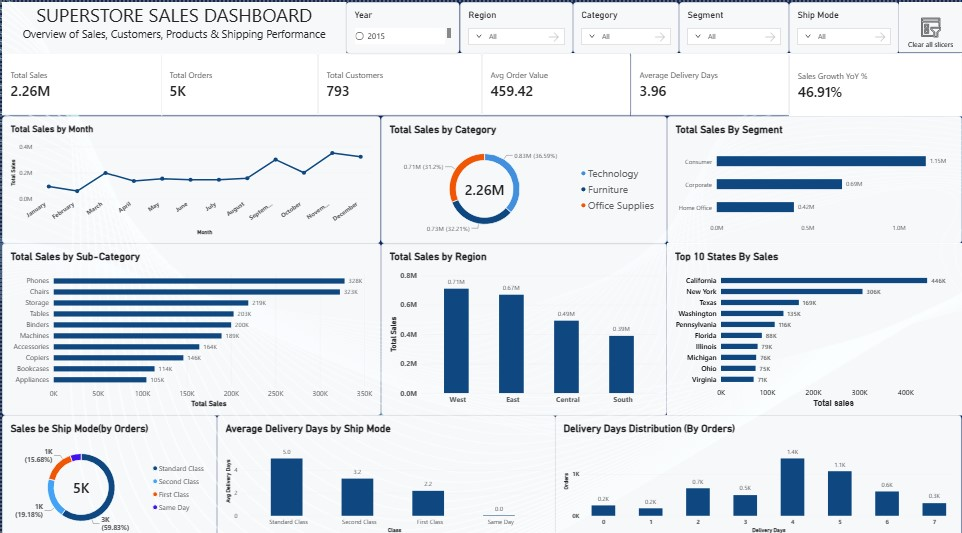

The dashboard page shown, as its layout file describes it:
{"tool":"powerbi","page":{"name":"Page 1","canvas":[1920,1080],"ordinal":0},"visuals":[{"type":"cardVisual","fields":{"Data":["sales.Total Sales"]},"box":[0,102.5,321.3,124.7],"z":0},{"type":"cardVisual","fields":{"Data":["sales.Total Orders"]},"box":[317.8,102.5,314.4,124.7],"z":1000},{"type":"cardVisual","fields":{"Data":["sales.Total Customers"]},"box":[632.3,102.5,328.1,124.7],"z":2000},{"type":"cardVisual","fields":{"Data":["sales.Avg Order Value"]},"box":[960.4,102.5,297.3,124.7],"z":3000},{"type":"columnChart","fields":{"Category":["sales.Region"],"Y":["sales.Total Sales","select"]},"box":[757,481.9,572.5,345.2],"z":5000},{"type":"barChart","fields":{"Category":["sales.Sub-Category"],"Y":["sales.Total Sales"]},"box":[0,481.9,757.6,345.1],"z":6000},{"type":"barChart","title":"Total Sales By Segment","fields":{"Category":["sales.Segment"],"Y":["sales.Total Sales"]},"box":[1329.5,227.3,589.6,254.6],"z":7000},{"type":"barChart","title":"Top 10 States By Sales","fields":{"Category":["sales.State"],"Y":["sales.Total Sales"]},"box":[1329.5,481.9,591.3,345.2],"z":8000},{"type":"textSlicer","fields":{"Values":["sales.Region"]},"box":[916,0,225.6,102.5],"z":9000},{"type":"textSlicer","fields":{"Values":["sales.Category"]},"box":[1141.5,0,211.9,102.5],"z":10000},{"type":"textSlicer","fields":{"Values":["sales.Segment"]},"box":[1353.4,0,220.4,102.5],"z":11000},{"type":"textbox","box":[0,0,688.7,102.5],"z":12000},{"type":"listSlicer","fields":{"Values":["sales.Order Date.Variation.Date Hierarchy.Year"]},"box":[688.7,0,227.3,102.5],"z":13000},{"type":"textSlicer","fields":{"Values":["sales.Ship Mode"]},"box":[1573.9,0,220.4,102.5],"z":14000},{"type":"cardVisual","fields":{"Data":["sales.Average Delivery Days"]},"box":[1257.7,102.5,316.1,124.7],"z":15000},{"type":"cardVisual","fields":{"Data":["sales.Sales Growth YoY %"]},"box":[1573,102.2,347,127.2],"z":16000},{"type":"donutChart","fields":{"Category":["sales.Category"],"Y":["sales.Total Sales"]},"box":[757,227.3,572.5,254.6],"z":17000},{"type":"donutChart","title":"Sales be Ship Mode(by Orders)","fields":{"Category":["sales.Ship Mode"],"Y":["sales.Orders"]},"box":[0,827,429.9,252.5],"z":18000},{"type":"columnChart","fields":{"Category":["sales.Ship Mode"],"Y":["sales.Average Delivery Days"]},"box":[429.9,827,676.6,252.5],"z":19000},{"type":"columnChart","title":"Delivery Days Distribution (By Orders)","fields":{"Category":["sales.Delivery Days"],"Y":["sales.Orders"]},"box":[1106.5,827,813.5,252.5],"z":20000},{"type":"actionButton","box":[1794.3,0,126.5,100.8],"z":21000},{"type":"lineChart","fields":{"Category":["sales.Order Month/Year.Variation.Date Hierarchy.Month"],"Y":["sales.Total Sales"]},"box":[0,227.3,757,254.6],"z":21001}]}

Visuals, with their boxes in screenshot pixels (x1, y1, x2, y2), scaled from the page's 1920x1080 canvas onto the 962x533 screenshot:
cardVisual - sales.Total Sales: bbox=(0, 51, 161, 112)
cardVisual - sales.Total Orders: bbox=(159, 51, 317, 112)
cardVisual - sales.Total Customers: bbox=(317, 51, 481, 112)
cardVisual - sales.Avg Order Value: bbox=(481, 51, 630, 112)
columnChart - sales.Region x sales.Total Sales: bbox=(379, 238, 666, 408)
barChart - sales.Sub-Category x sales.Total Sales: bbox=(0, 238, 380, 408)
"Total Sales By Segment" barChart: bbox=(666, 112, 961, 238)
"Top 10 States By Sales" barChart: bbox=(666, 238, 961, 408)
textSlicer - sales.Region: bbox=(459, 0, 572, 51)
textSlicer - sales.Category: bbox=(572, 0, 678, 51)
textSlicer - sales.Segment: bbox=(678, 0, 789, 51)
textbox: bbox=(0, 0, 345, 51)
listSlicer - sales.Order Date.Variation.Date Hierarchy.Year: bbox=(345, 0, 459, 51)
textSlicer - sales.Ship Mode: bbox=(789, 0, 899, 51)
cardVisual - sales.Average Delivery Days: bbox=(630, 51, 789, 112)
cardVisual - sales.Sales Growth YoY %: bbox=(788, 50, 961, 113)
donutChart - sales.Category x sales.Total Sales: bbox=(379, 112, 666, 238)
"Sales be Ship Mode(by Orders)" donutChart: bbox=(0, 408, 215, 532)
columnChart - sales.Ship Mode x sales.Average Delivery Days: bbox=(215, 408, 554, 532)
"Delivery Days Distribution (By Orders)" columnChart: bbox=(554, 408, 961, 532)
actionButton: bbox=(899, 0, 961, 50)
lineChart - sales.Order Month/Year.Variation.Date Hierarchy.Month x sales.Total Sales: bbox=(0, 112, 379, 238)
